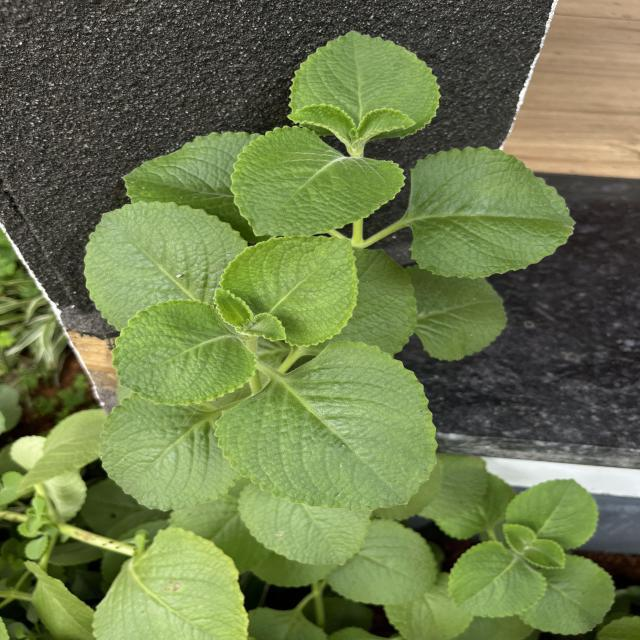Plectranthus barbatus: (213, 338, 440, 513), (406, 144, 580, 280), (82, 200, 248, 332), (230, 124, 407, 239), (87, 524, 252, 640), (286, 28, 442, 140), (98, 394, 242, 514), (111, 298, 259, 407), (218, 235, 360, 348), (236, 483, 374, 568), (404, 262, 510, 364), (326, 518, 438, 607), (516, 554, 618, 636), (447, 538, 548, 619), (504, 478, 600, 550), (522, 538, 568, 570)
